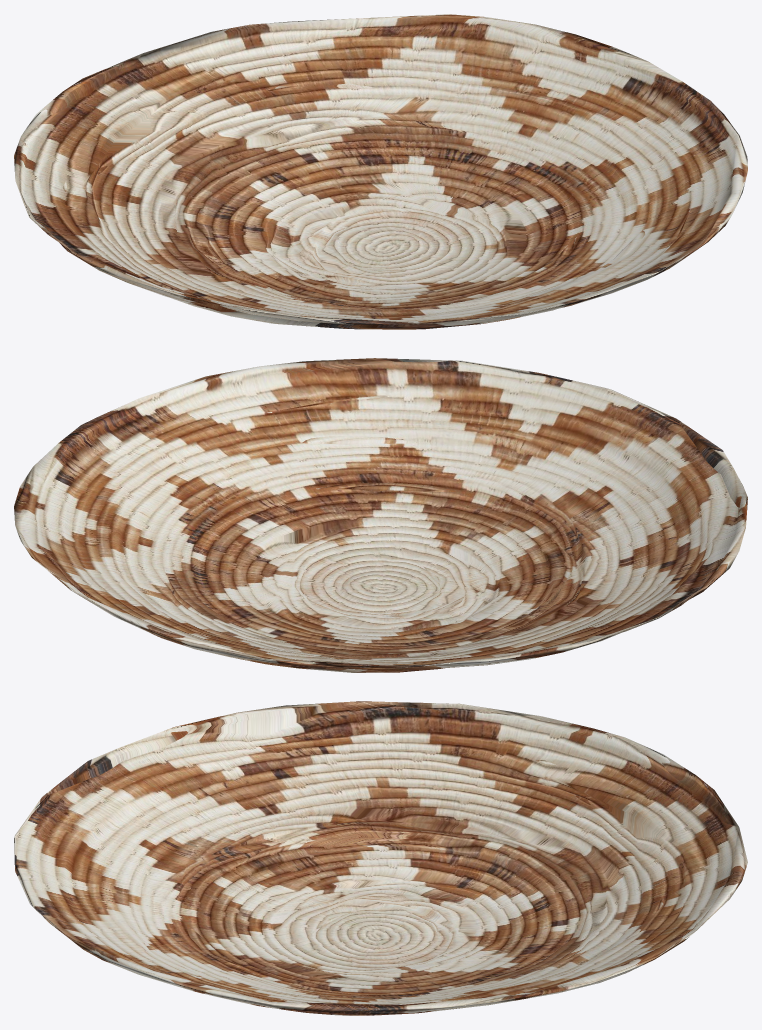
Rendered from Earthy Tribal Star Pattern.fbx.
The picture shows the model from 3 angles, top to bottom: view 1: azimuth 30°, elevation 25°; view 2: azimuth 150°, elevation 25°; view 3: azimuth 270°, elevation 25°; orthographic projection.
Parts seen in each view (by area): view 1: Earthy Tribal Star Pattern; view 2: Earthy Tribal Star Pattern; view 3: Earthy Tribal Star Pattern.
Boxes of the visible parts, x1,y1,x2,y2 form: Earthy Tribal Star Pattern: (14,14,747,329); Earthy Tribal Star Pattern: (14,358,747,672); Earthy Tribal Star Pattern: (14,701,747,1015).
Bounding box in the file's own units: 37.99 × 4.97 × 38.16.
1 material, 1 textured.
